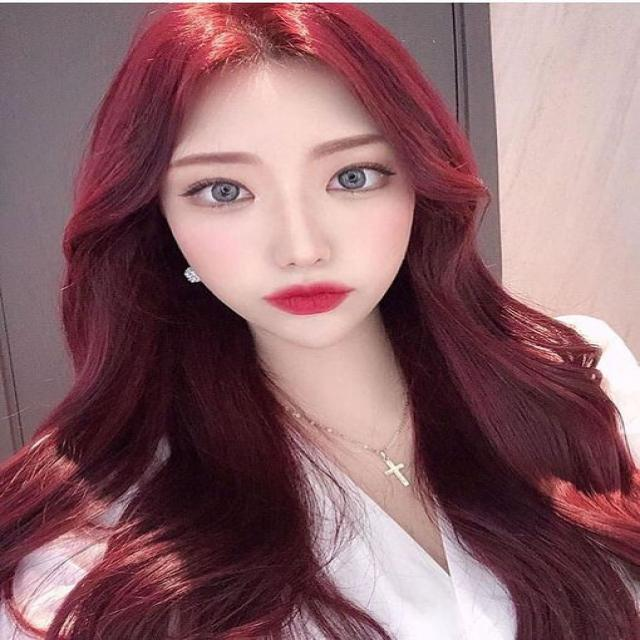Nonhelmet: (122, 20, 471, 356)
